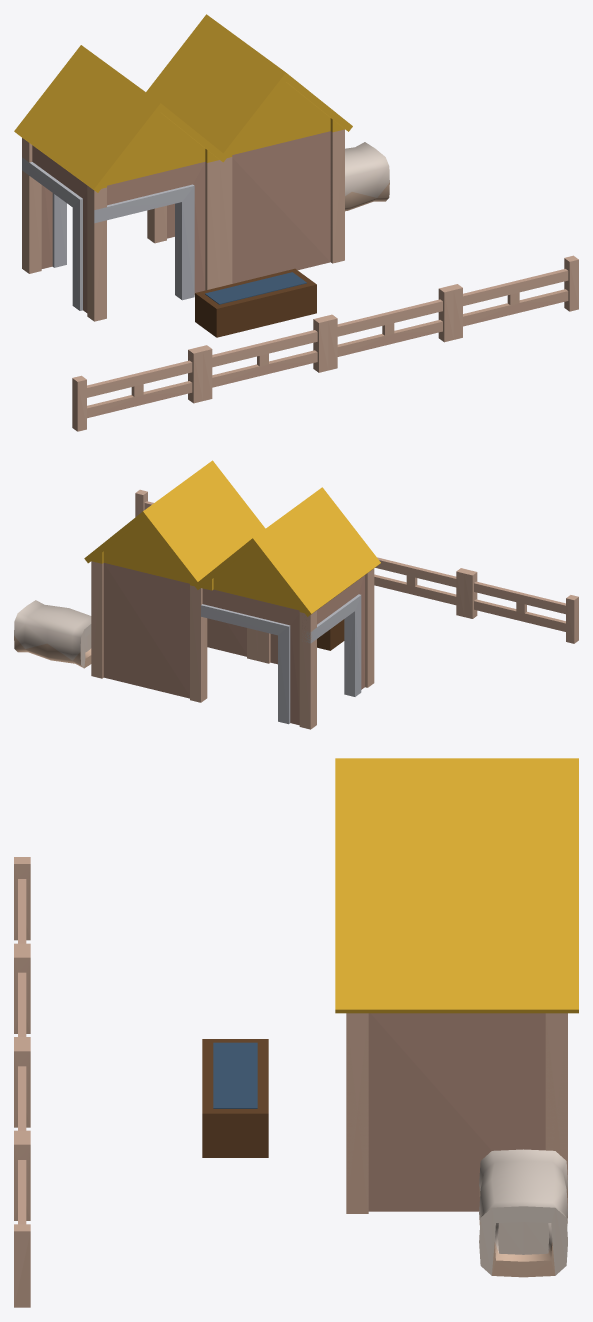
File: stables_l1.glb
The picture shows the model from 3 angles, top to bottom: view 1: azimuth 30°, elevation 25°; view 2: azimuth 150°, elevation 25°; view 3: azimuth 270°, elevation 25°; orthographic projection. The views are drawn at different scales.
Visible parts, largest first — view 1: stables_l1; view 2: stables_l1; view 3: stables_l1.
Boxes of the visible parts, x1,y1,x2,y2 form: stables_l1: (14,14,578,431); stables_l1: (14,460,578,729); stables_l1: (14,758,578,1307).
Bounding box in the file's own units: 7.6 × 2.98 × 4.85.
